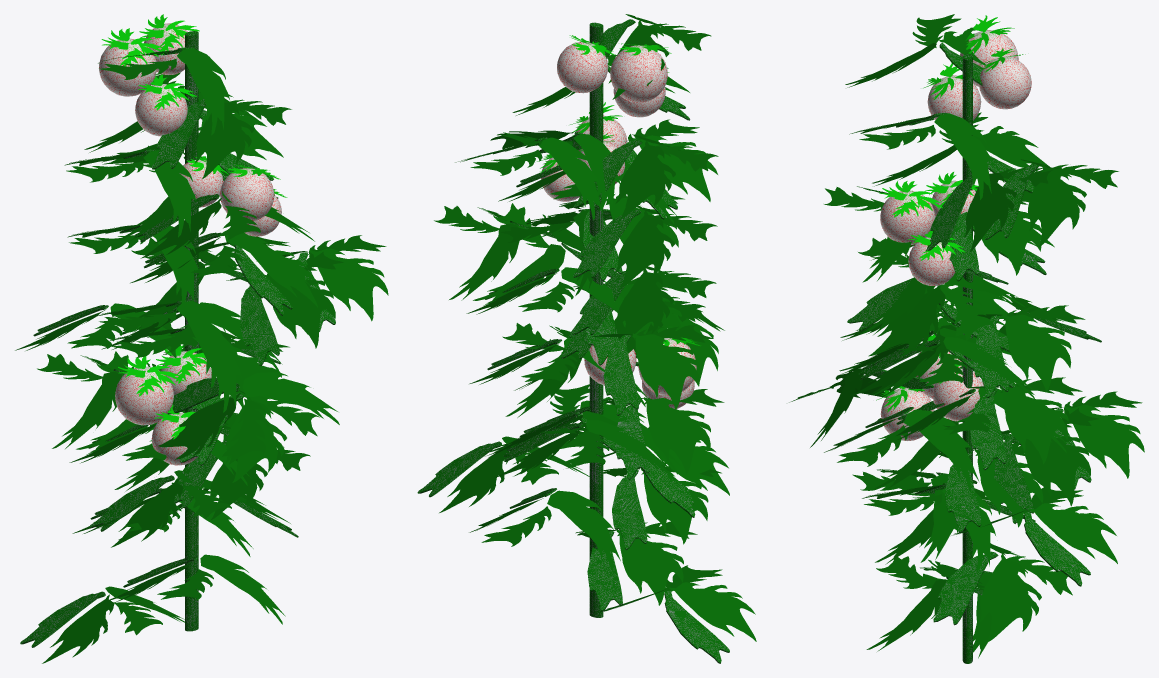
File: PlantaTomate.obj
3 views of the same model, side by side, from view 1: azimuth 30°, elevation 25°; view 2: azimuth 150°, elevation 25°; view 3: azimuth 270°, elevation 25° (orthographic). The views are drawn at different scales.
Visible parts, largest first — view 1: group_3, group_14.002, group_7.036, group_12.014, group_18.002, group_1.003, group_7.063, group_16.015, group_1.002, group_13.015, group_18, group_7.018 (+50 smaller); view 2: group_3, group_11.014, group_17.008, group_13.008, group_7.009, group_11.008, group_19.014, group_17.014, group_13.014, group_20.009, group_7, group_14.015 (+55 smaller); view 3: group_20.008, group_17.002, group_19.002, group_14.008, group_3, group_14.014, group_18.008, group_11.002, group_20.014, group_7, group_18.014, group_12.015 (+54 smaller).
Part boxes in pixels (x1,y1,x2,y2): group_3: [185, 31, 198, 631]; group_14.002: [309, 248, 388, 321]; group_7.036: [115, 366, 173, 425]; group_12.014: [195, 102, 254, 178]; group_18.002: [265, 275, 335, 348]; group_1.003: [242, 372, 339, 424]; group_7.063: [220, 168, 274, 221]; group_16.015: [177, 48, 229, 135]; group_1.002: [158, 393, 240, 459]; group_13.015: [176, 301, 229, 387]; group_18: [240, 285, 279, 365]; group_7.018: [135, 84, 187, 136]; group_3: [589, 22, 603, 617]; group_11.014: [632, 333, 699, 410]; group_17.008: [643, 397, 710, 473]; group_13.008: [616, 529, 683, 605]; group_7.009: [610, 45, 667, 102]; group_11.008: [669, 582, 756, 641]; group_19.014: [614, 210, 674, 289]; group_17.014: [615, 141, 675, 219]; group_13.014: [614, 268, 674, 337]; group_20.009: [547, 490, 620, 570]; group_7: [557, 42, 607, 93]; group_14.015: [539, 137, 602, 220]; group_20.008: [979, 554, 1041, 642]; group_17.002: [1002, 314, 1071, 391]; group_19.002: [999, 386, 1068, 464]; group_14.008: [1064, 405, 1144, 478]; group_3: [962, 53, 972, 663]; group_14.014: [1028, 164, 1086, 246]; group_18.008: [1022, 437, 1090, 506]; group_11.002: [1028, 503, 1117, 563]; group_20.014: [868, 285, 945, 357]; group_7: [979, 57, 1031, 109]; group_18.014: [964, 173, 1016, 252]; group_12.015: [934, 113, 993, 199].
Bounding box in the file's own units: 0.7446 × 1.29 × 0.6918.
